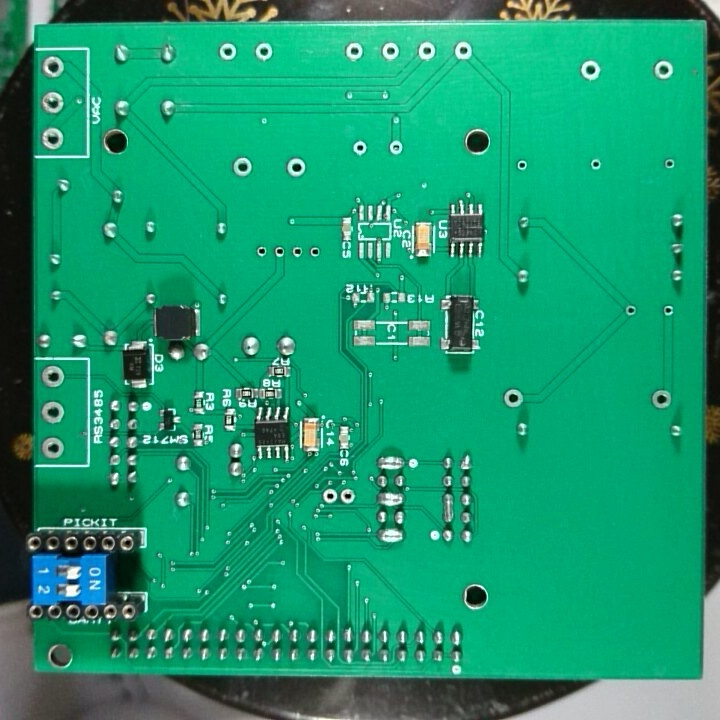F: (38, 363, 67, 391), (37, 435, 66, 462), (39, 399, 66, 426), (39, 89, 65, 117), (39, 54, 67, 80), (498, 385, 527, 410), (39, 126, 66, 152), (651, 57, 677, 83), (577, 58, 602, 85), (230, 153, 255, 180), (451, 38, 476, 63), (284, 155, 310, 179), (342, 38, 365, 64), (254, 40, 277, 65), (379, 38, 402, 63), (414, 39, 439, 62), (648, 387, 672, 410), (217, 40, 239, 63), (349, 137, 371, 158), (339, 485, 357, 508), (269, 243, 288, 263), (586, 155, 606, 174), (512, 156, 531, 175), (386, 138, 405, 157), (321, 486, 339, 506), (289, 244, 306, 262), (254, 242, 270, 261), (661, 301, 676, 321), (305, 243, 322, 260), (661, 155, 677, 173), (622, 302, 637, 319)
P: (374, 526, 408, 546), (440, 490, 457, 526), (375, 454, 407, 472), (374, 490, 406, 507)
